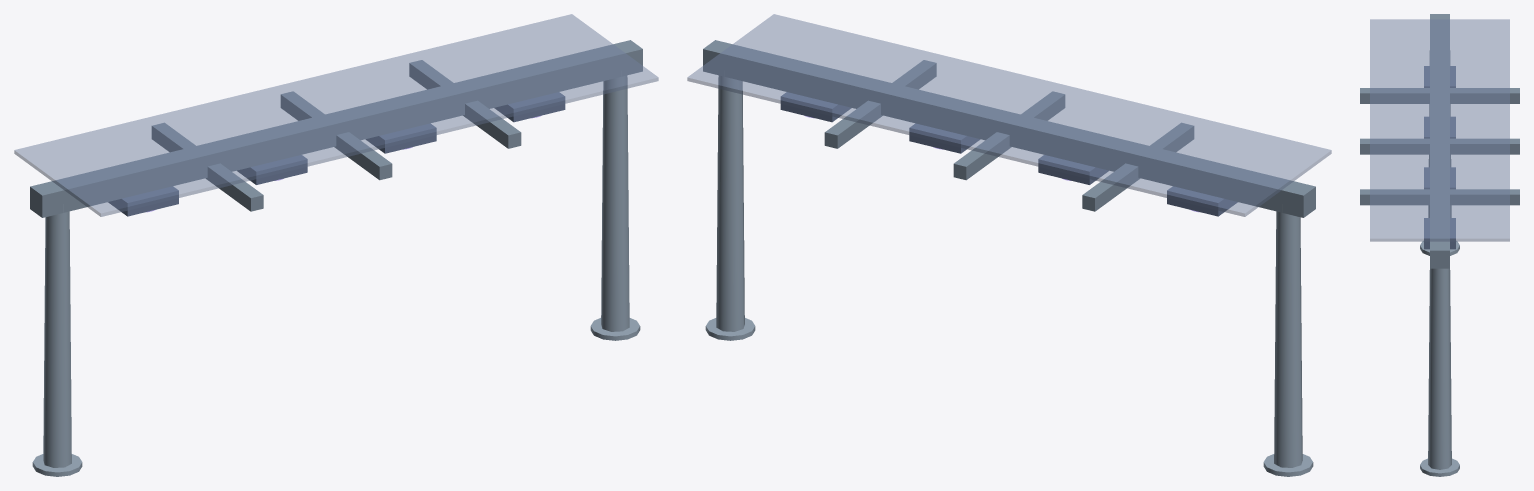
The model's file is canopy-frame.glb.
3 renders of one model, left to right at view 1: azimuth 30°, elevation 25°; view 2: azimuth 150°, elevation 25°; view 3: azimuth 270°, elevation 25°, orthographic. The views are drawn at different scales.
Size of the model in its own units: 14 by 6.34 by 4.
